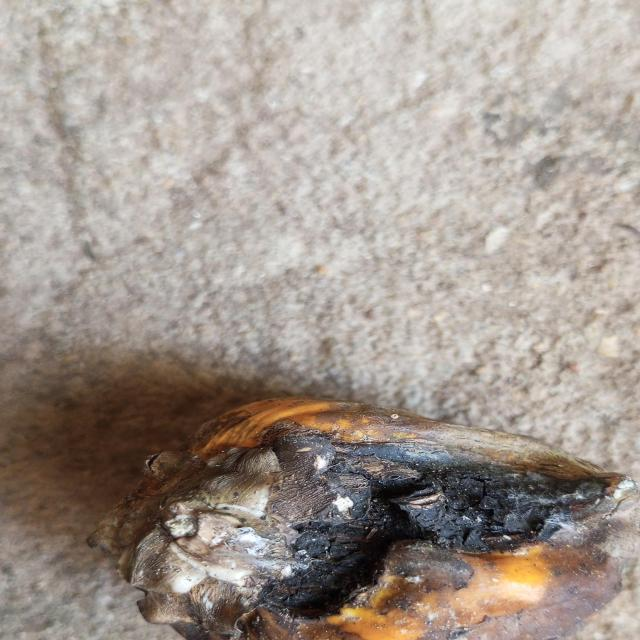damaged: (89, 398, 637, 640)
